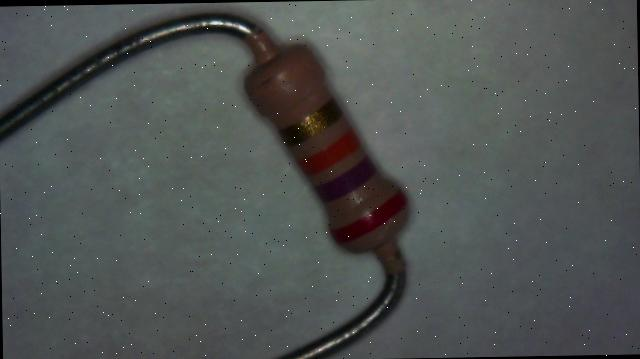gold: (280, 98, 344, 146)
orange: (298, 127, 360, 176)
red: (331, 190, 406, 242)
resistor: (217, 21, 439, 277)
violet: (315, 156, 377, 202)
